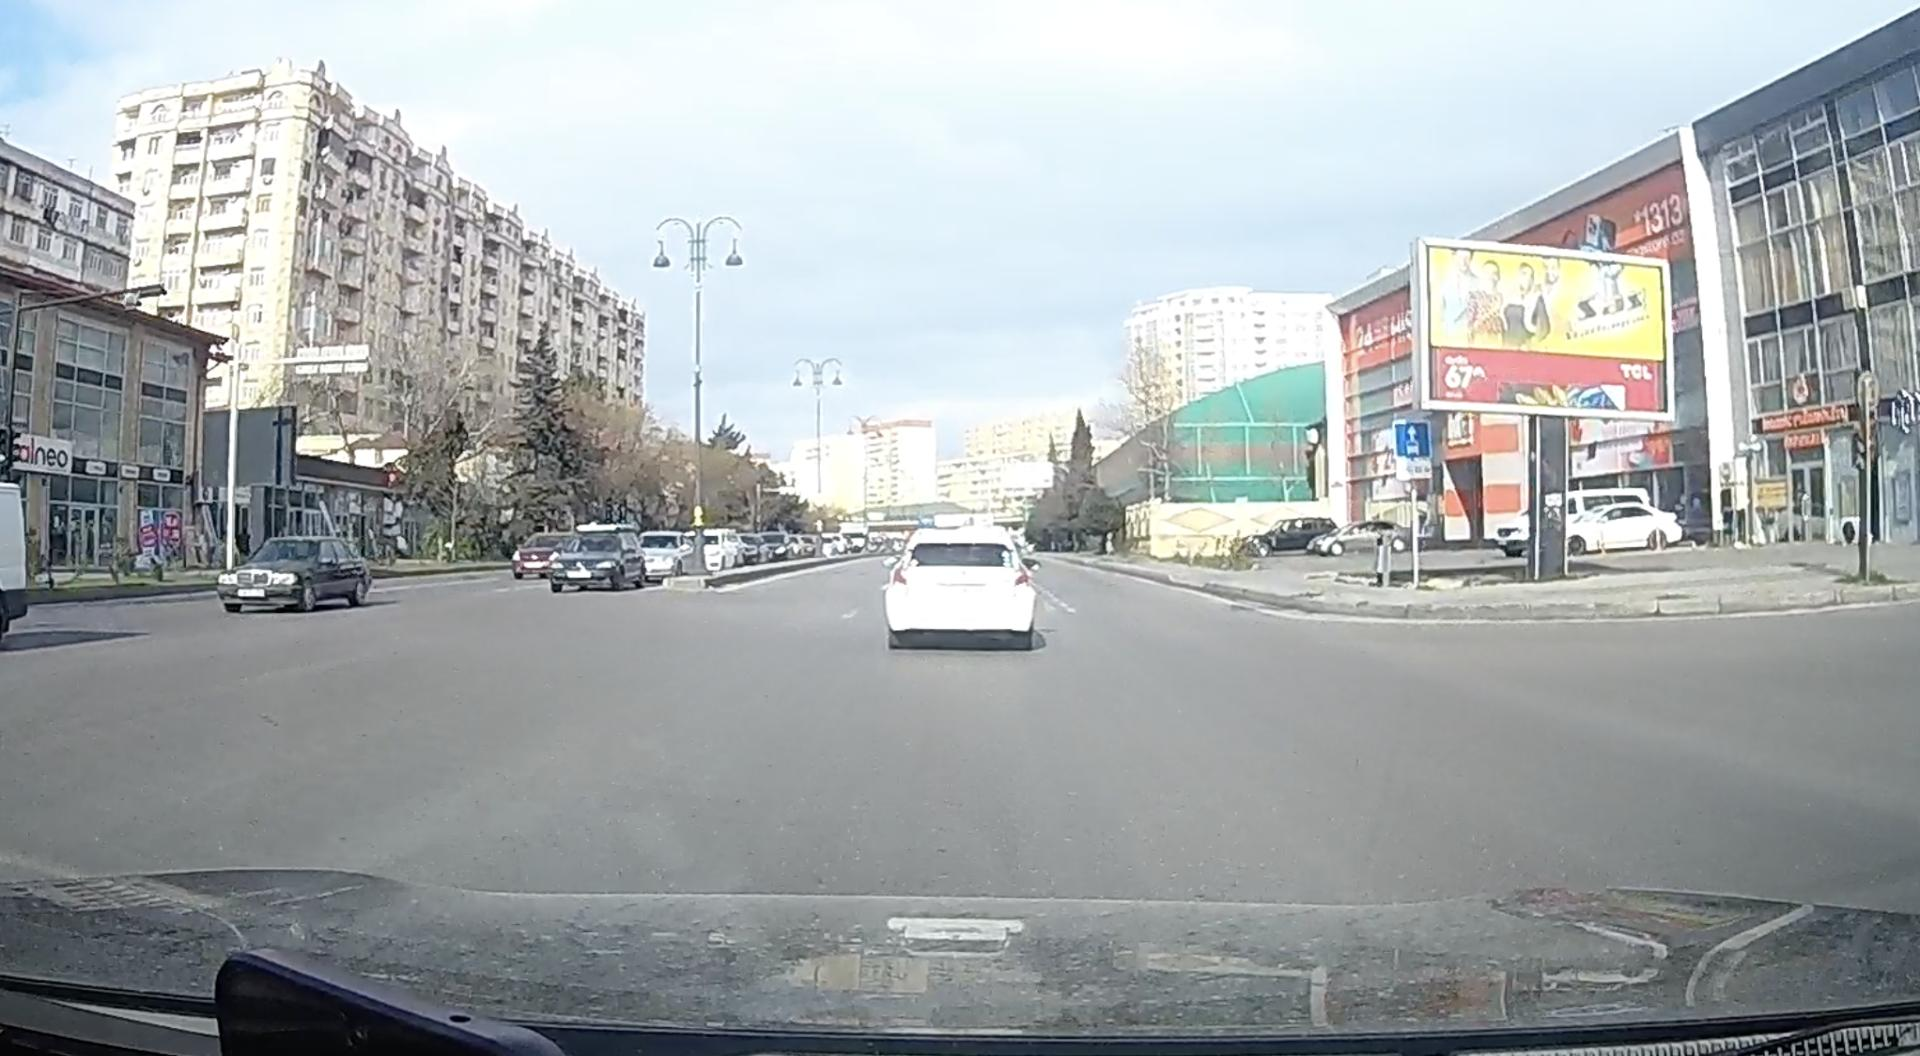banner: (1410, 235, 1678, 427)
